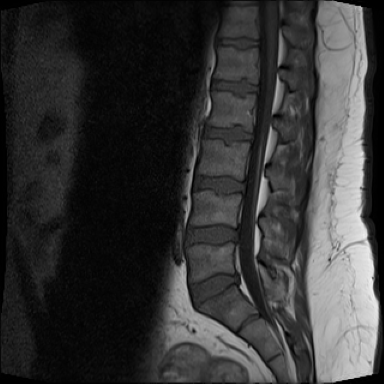Lumbar Disc Bulge (LDB): (179, 217, 248, 249)
Normal IVD: (185, 266, 242, 313), (184, 170, 249, 197), (196, 120, 256, 146), (200, 74, 261, 97), (208, 36, 263, 50)
Spinal Stenosis (SS): (222, 220, 248, 248)
